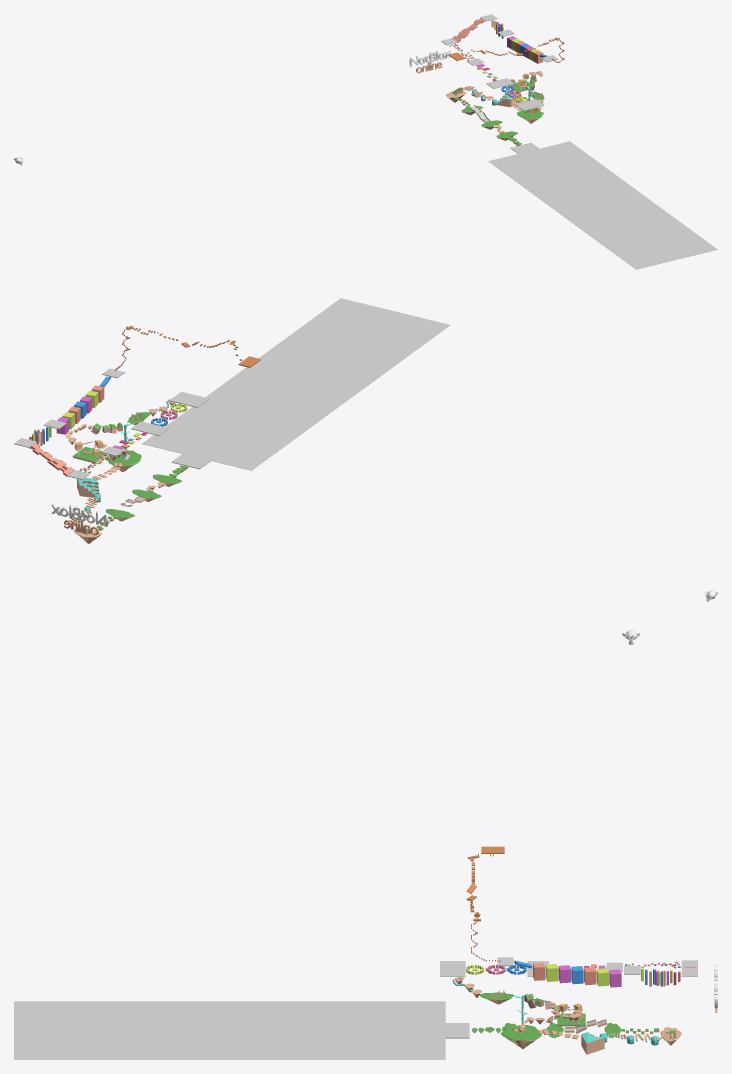
3 views of the same model, one above another, from view 1: azimuth 30°, elevation 25°; view 2: azimuth 150°, elevation 25°; view 3: azimuth 270°, elevation 25° (orthographic). The views are drawn at different scales.
Visible parts, largest first — view 1: Box; view 2: Box, Text; view 3: Box.
Boxes of the visible parts, left/top/right/bottom form: Box: left=488, top=141, right=717, bottom=269; Box: left=142, top=298, right=450, bottom=470; Text: left=51, top=504, right=107, bottom=526; Box: left=14, top=1001, right=445, bottom=1059.
Size of the model in its own units: 3572 by 750 by 2965.
Materials: 54 (1 with a texture image).
